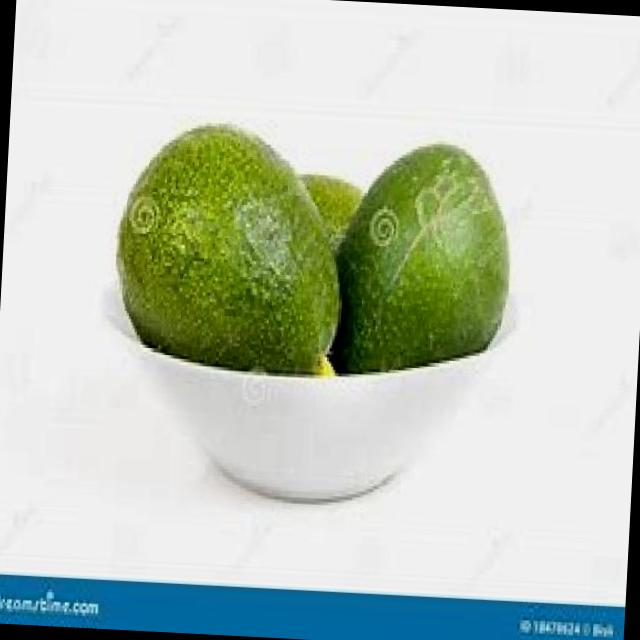avocado: (100, 117, 350, 371), (308, 133, 527, 380)
